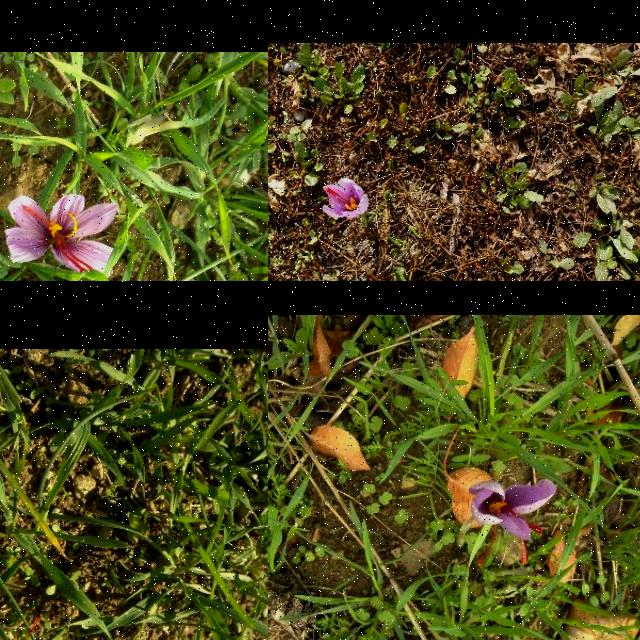flower: (4, 195, 118, 273), (468, 478, 556, 568), (322, 178, 370, 220)
